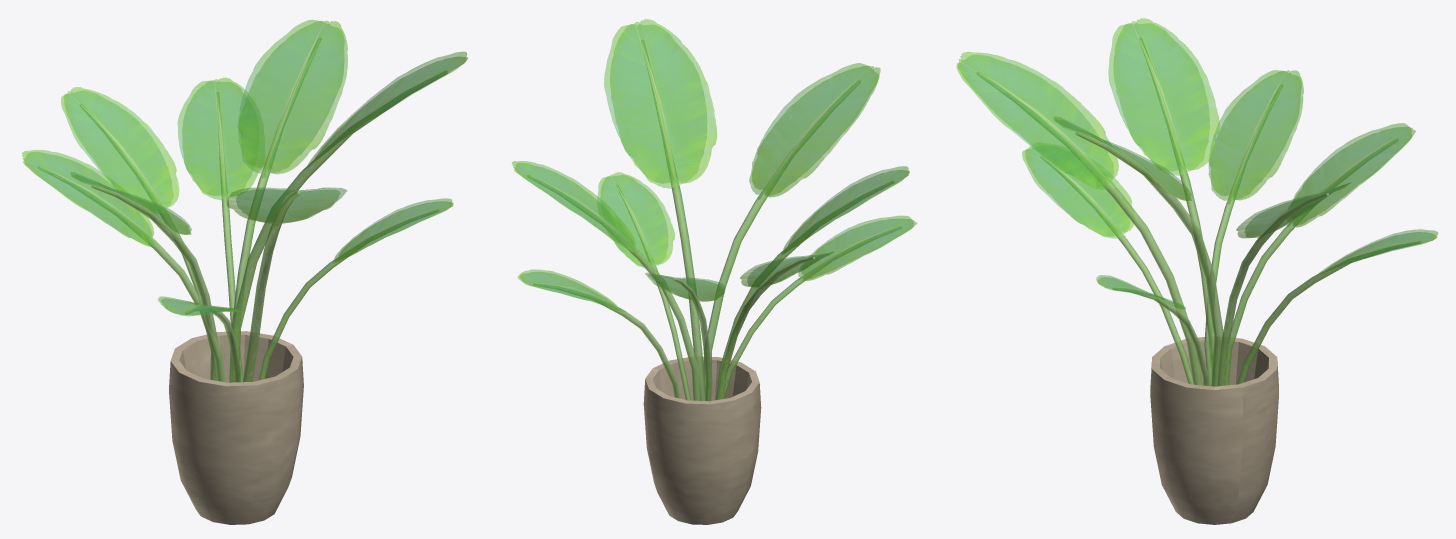
Rendered from Banana_Plant.glb.
The picture shows the model from 3 angles, left to right: view 1: azimuth 30°, elevation 25°; view 2: azimuth 150°, elevation 25°; view 3: azimuth 270°, elevation 25°; orthographic projection. The views are drawn at different scales.
Visible parts, largest first — view 1: Banana_Plant; view 2: Banana_Plant; view 3: Banana_Plant.
Part boxes in pixels (left/top/right/bottom): Banana_Plant: left=22, top=20, right=467, bottom=524; Banana_Plant: left=512, top=19, right=917, bottom=524; Banana_Plant: left=956, top=18, right=1438, bottom=524.
Size of the model in its own units: 0.8508 by 1.04 by 1.01.
Materials: 2 (2 with a texture image).
